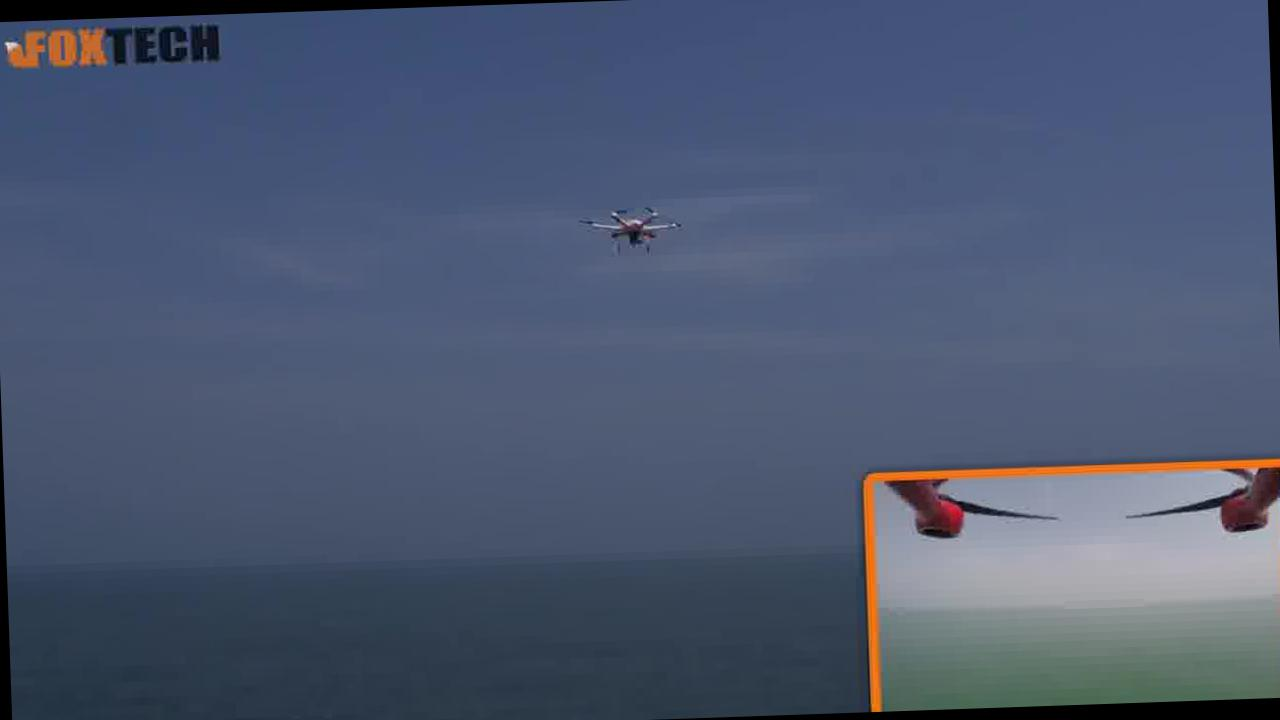drone: (582, 182, 690, 263)
